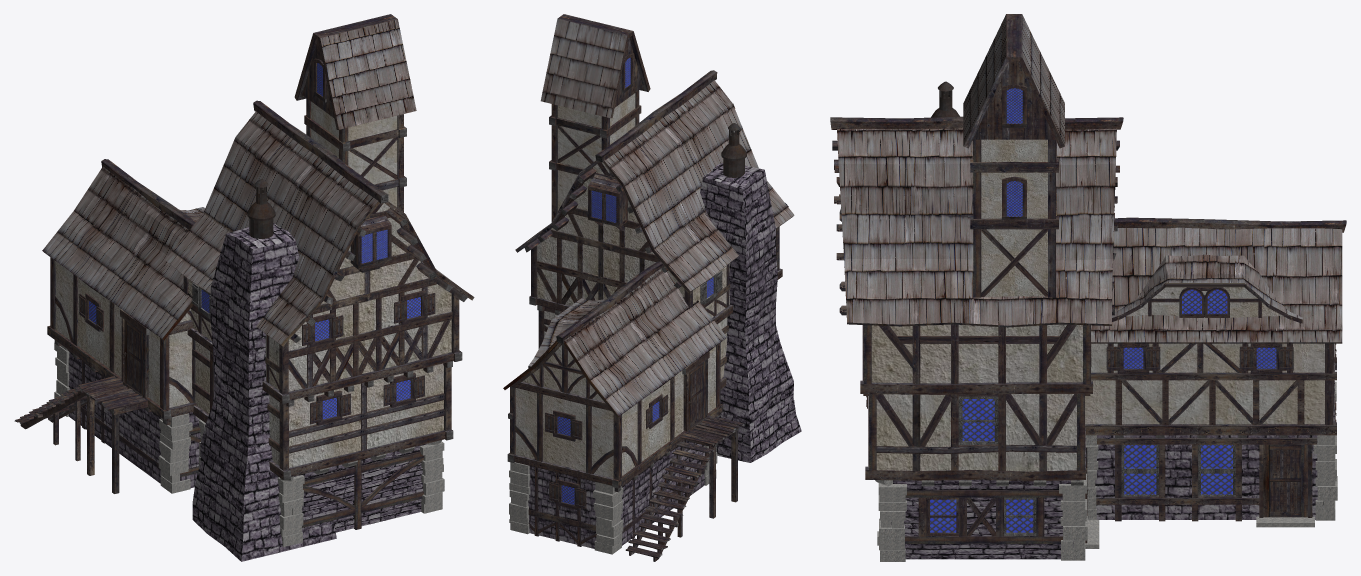
File: casa_medieval_03.glb
3 views of the same model, side by side, from view 1: azimuth 30°, elevation 25°; view 2: azimuth 150°, elevation 25°; view 3: azimuth 270°, elevation 25° (orthographic). The views are drawn at different scales.
Visible parts, largest first — view 1: ChimneyLeft; view 2: ChimneyLeft; view 3: ChimneyLeft.
Boxes of the visible parts, box(x1,y1,x2,y2) form: ChimneyLeft: box(14, 14, 474, 561); ChimneyLeft: box(503, 14, 801, 561); ChimneyLeft: box(830, 14, 1346, 561).
Bounding box in the file's own units: 8.53 × 14.65 × 13.17.
Materials: 12 (12 with a texture image).
